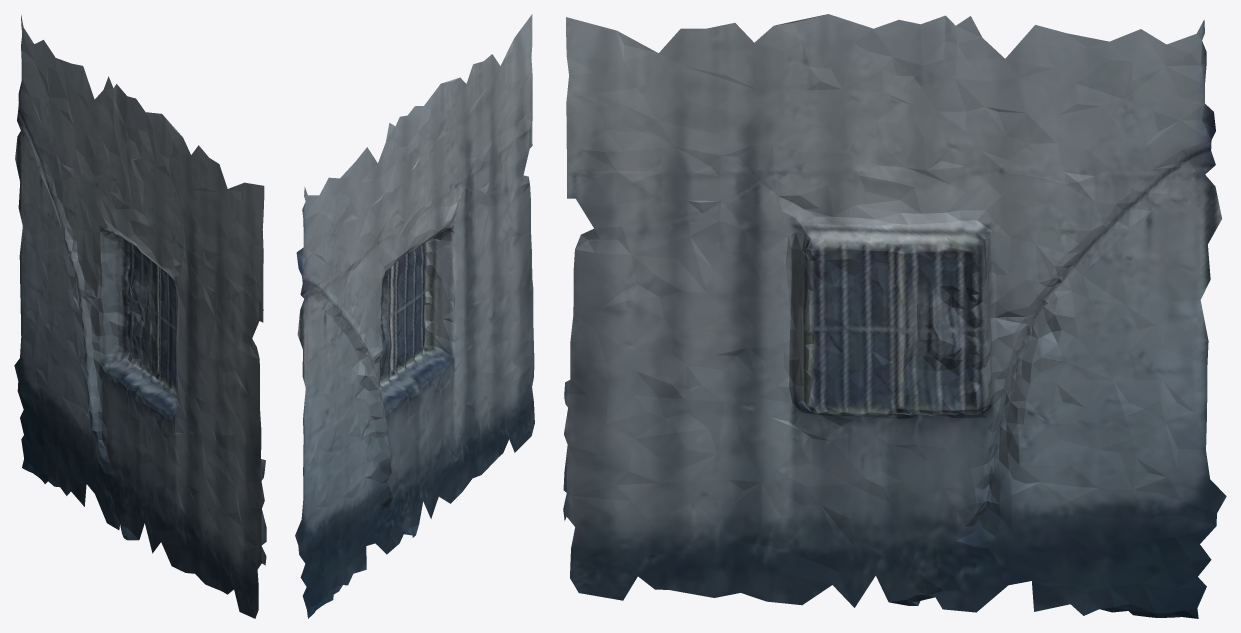
The picture shows the model from 3 angles, left to right: view 1: azimuth 30°, elevation 25°; view 2: azimuth 150°, elevation 25°; view 3: azimuth 270°, elevation 25°; orthographic projection. The views are drawn at different scales.
Visible parts, largest first — view 1: 3Dscan3; view 2: 3Dscan3; view 3: 3Dscan3.
Boxes of the visible parts, <box> form: 3Dscan3: <box>14,15,266,618</box>; 3Dscan3: <box>295,14,534,618</box>; 3Dscan3: <box>563,14,1226,618</box>.
Size of the model in its own units: 0.1056 by 1.21 by 1.2.
Materials: 1 (1 with a texture image).
